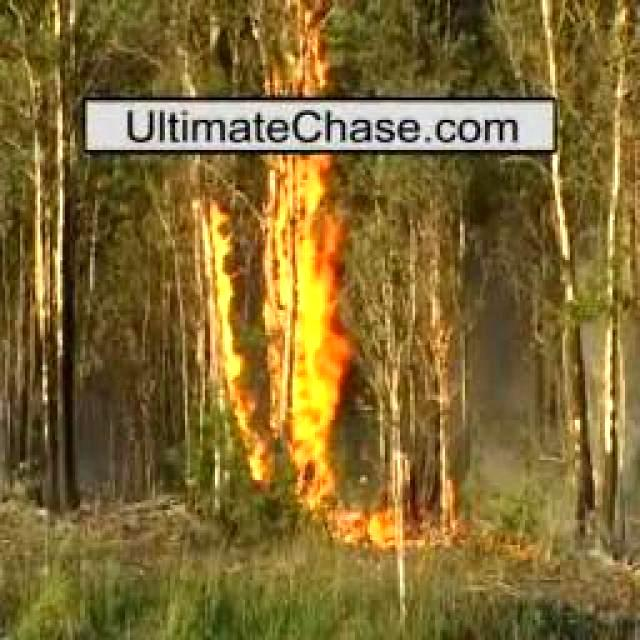fire: (190, 207, 350, 486), (253, 49, 327, 210), (335, 512, 397, 556)
